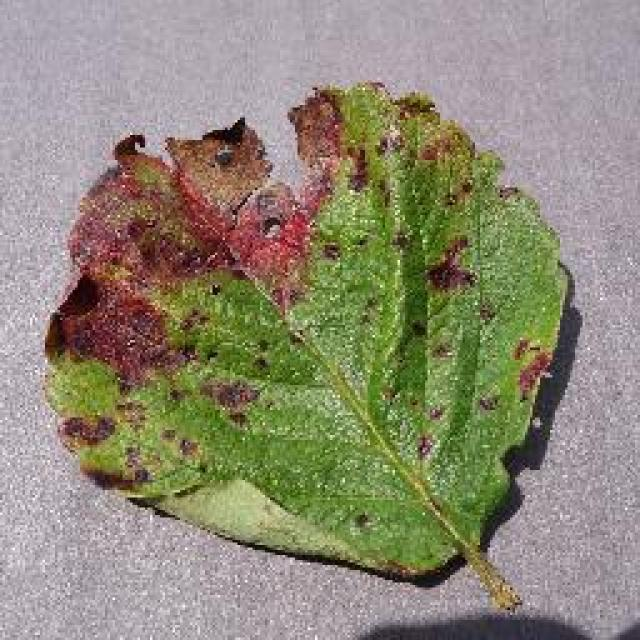Strawberry leaf scorch: (30, 81, 543, 436)
